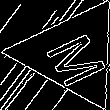M_NE: (34, 22, 109, 86)
